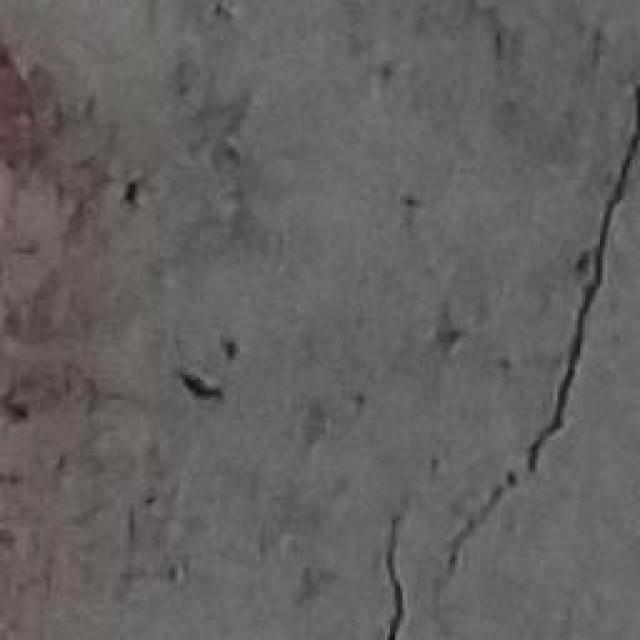Diagonal: (370, 112, 640, 640)
